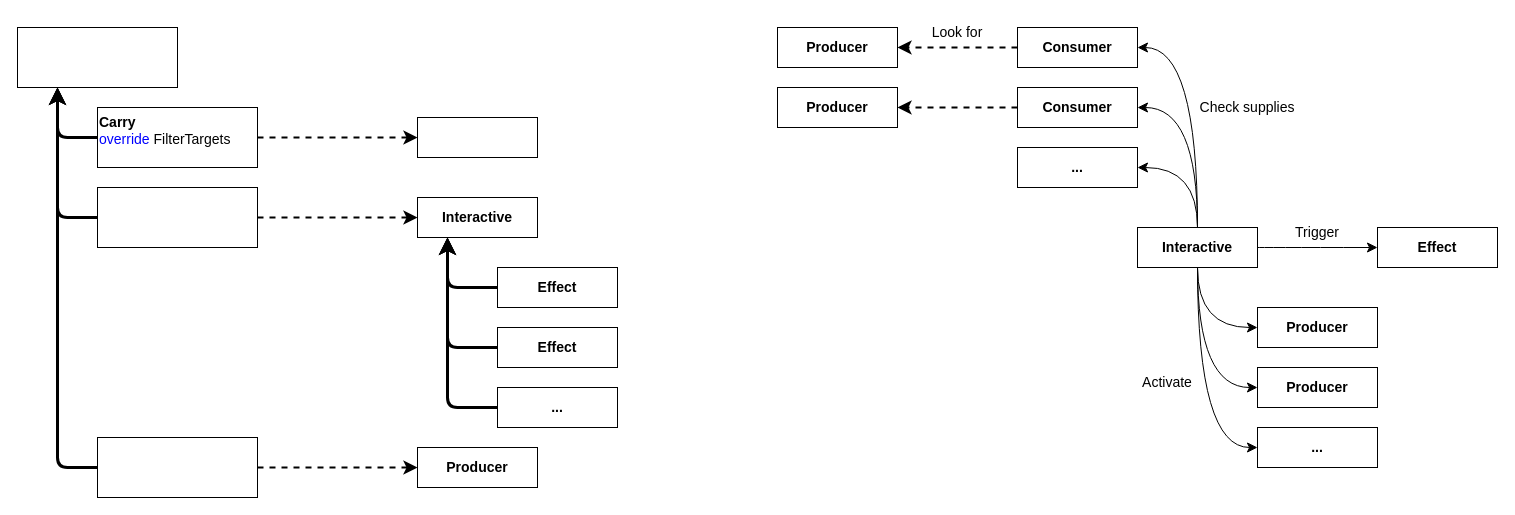
The diagram is 1515 pixels wide and 515 high, and some of its shapes have lost their labels. The centre of each missing label's shape, as x and y in pixels:
"Consumer override FilterTargets" belongs at point (177, 467).
"Container" belongs at point (477, 137).
"Interact override FilterTargets" belongs at point (177, 217).
"Target virtual FilterTargets" belongs at point (97, 57).
